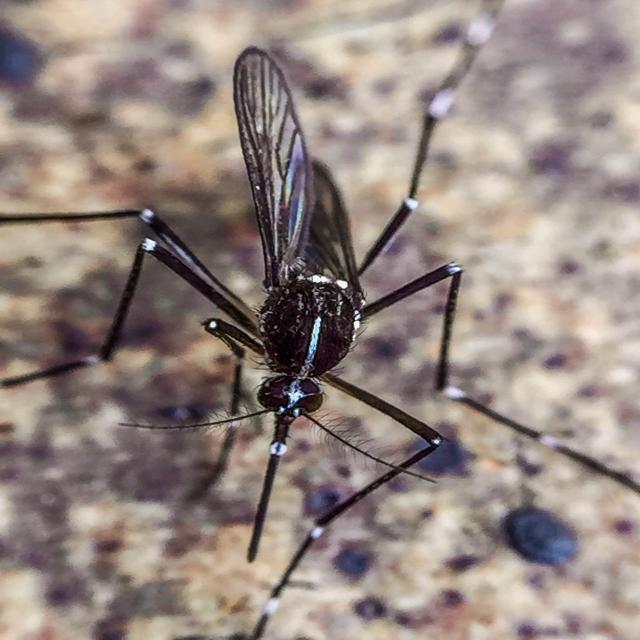albopictus: (14, 19, 624, 614)
